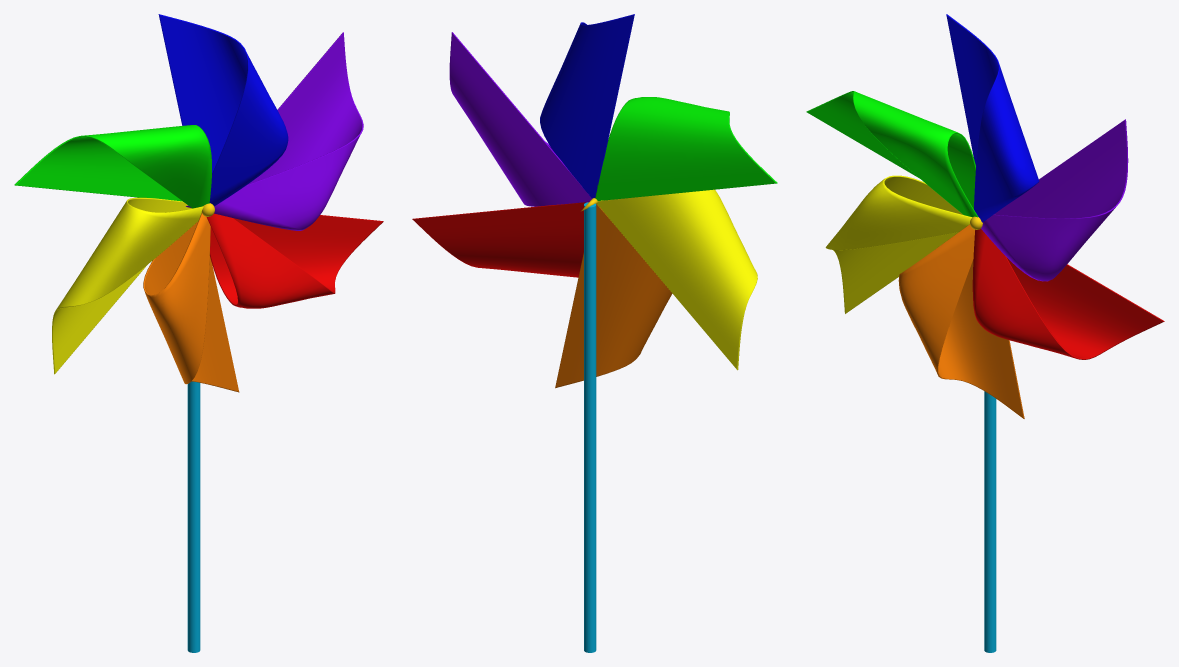
File: girandola.fbx
The picture shows the model from 3 angles, left to right: view 1: azimuth 30°, elevation 25°; view 2: azimuth 150°, elevation 25°; view 3: azimuth 330°, elevation 25°; orthographic projection. The views are drawn at different scales.
Parts seen in each view (by area): view 1: Girandole, Porta Girandola; view 2: Girandole, Porta Girandola; view 3: Girandole, Porta Girandola.
Boxes of the visible parts, bbox=[...] form: Girandole: bbox=[14, 14, 383, 392]; Porta Girandola: bbox=[187, 381, 200, 652]; Girandole: bbox=[412, 14, 777, 388]; Porta Girandola: bbox=[584, 202, 596, 652]; Girandole: bbox=[806, 14, 1164, 418]; Porta Girandola: bbox=[984, 391, 996, 652].
Size of the model in its own units: 65.23 by 110 by 13.12.
